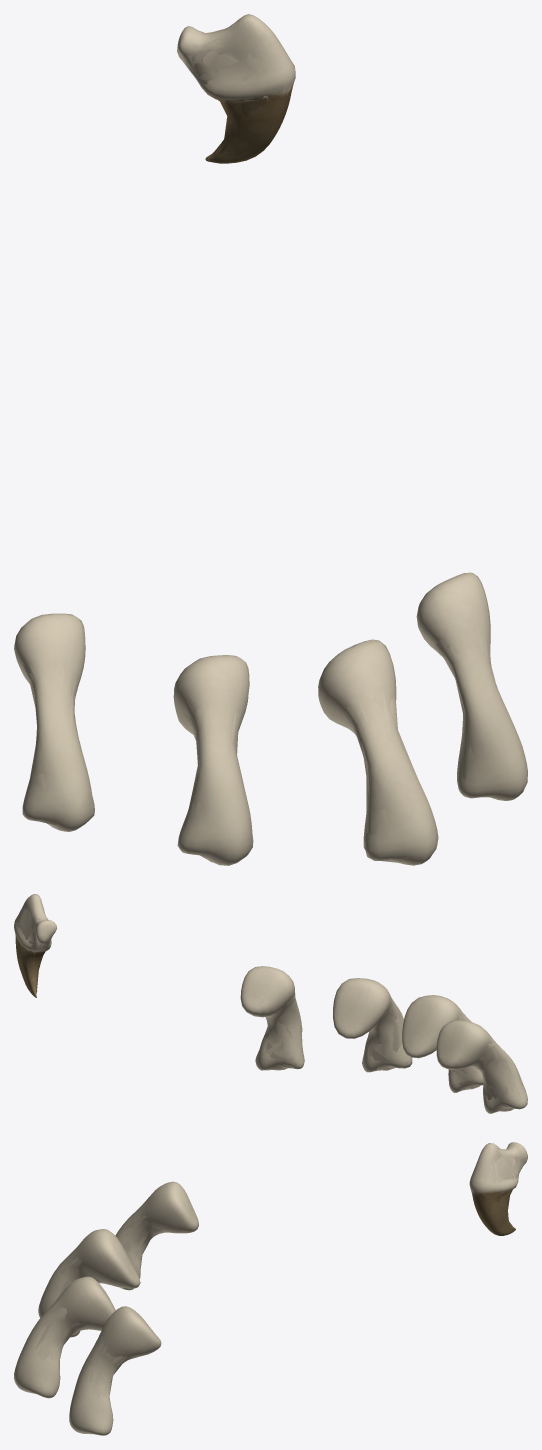
The model's file is FR 2nd Phalanx.fbx.
The picture shows the model from 3 angles, top to bottom: view 1: azimuth 30°, elevation 25°; view 2: azimuth 150°, elevation 25°; view 3: azimuth 270°, elevation 25°; orthographic projection. The views are drawn at different scales.
Parts seen in each view (by area): view 1: FR 2nd Phalanx high, FR 2nd Phalanx, FR 2nd Phalanx low; view 2: FR 2nd Phalanx high, FR 2nd Phalanx low, FR 2nd Phalanx; view 3: FR 2nd Phalanx high, FR 2nd Phalanx, FR 2nd Phalanx low.
Part boxes in pixels (x1,y1,x2,y2): FR 2nd Phalanx high: (14, 14, 527, 865); FR 2nd Phalanx: (25, 22, 503, 863); FR 2nd Phalanx low: (23, 27, 495, 862); FR 2nd Phalanx high: (14, 894, 527, 1113); FR 2nd Phalanx low: (17, 905, 513, 1106); FR 2nd Phalanx: (15, 901, 522, 1112); FR 2nd Phalanx high: (14, 1142, 527, 1435); FR 2nd Phalanx: (29, 1146, 523, 1434); FR 2nd Phalanx low: (40, 1147, 520, 1396).
Size of the model in its own units: 10.6 by 9.27 by 13.79.
